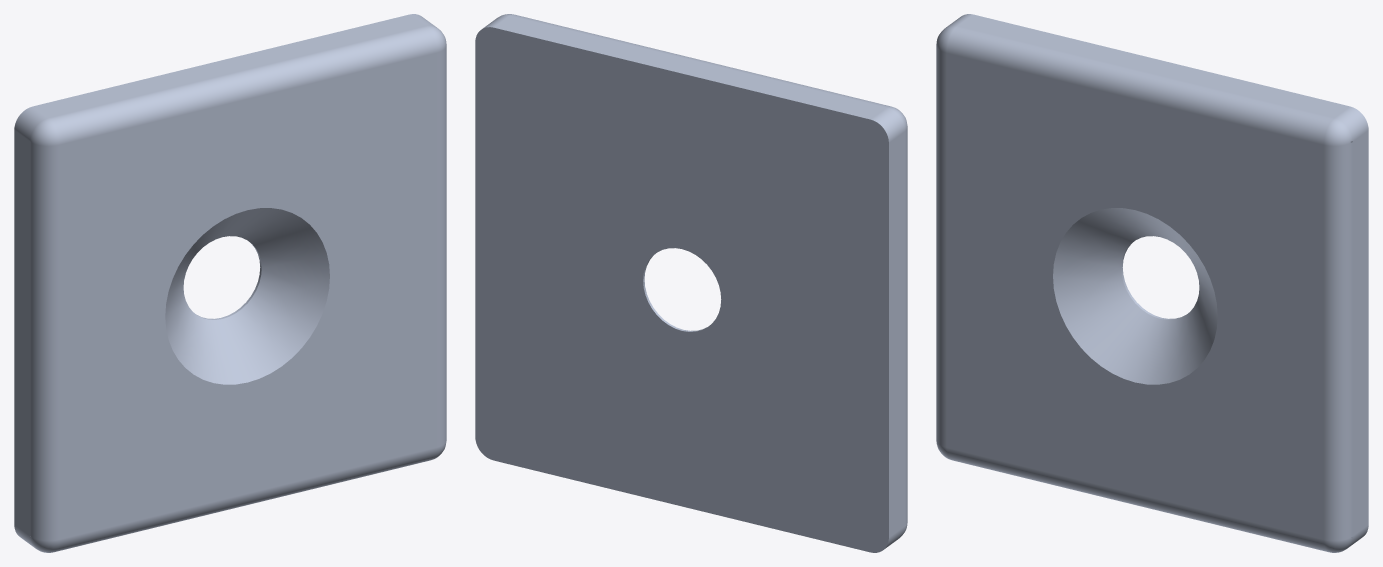
Rendered from TPHU-TPHU-4510-4545-ZP.glb.
The picture shows the model from 3 angles, left to right: view 1: azimuth 30°, elevation 25°; view 2: azimuth 150°, elevation 25°; view 3: azimuth 330°, elevation 25°; orthographic projection.
Visible parts, largest first — view 1: TPHU-4510-4545-ZP(¼ρ¢´´FA jlcfa.com); view 2: TPHU-4510-4545-ZP(¼ρ¢´´FA jlcfa.com); view 3: TPHU-4510-4545-ZP(¼ρ¢´´FA jlcfa.com).
Part boxes in pixels (x1,y1,x2,y2): TPHU-4510-4545-ZP(¼ρ¢´´FA jlcfa.com): [14, 14, 446, 552]; TPHU-4510-4545-ZP(¼ρ¢´´FA jlcfa.com): [475, 14, 907, 552]; TPHU-4510-4545-ZP(¼ρ¢´´FA jlcfa.com): [936, 14, 1368, 552].
Size of the model in its own units: 0.045 by 0.045 by 0.005.
